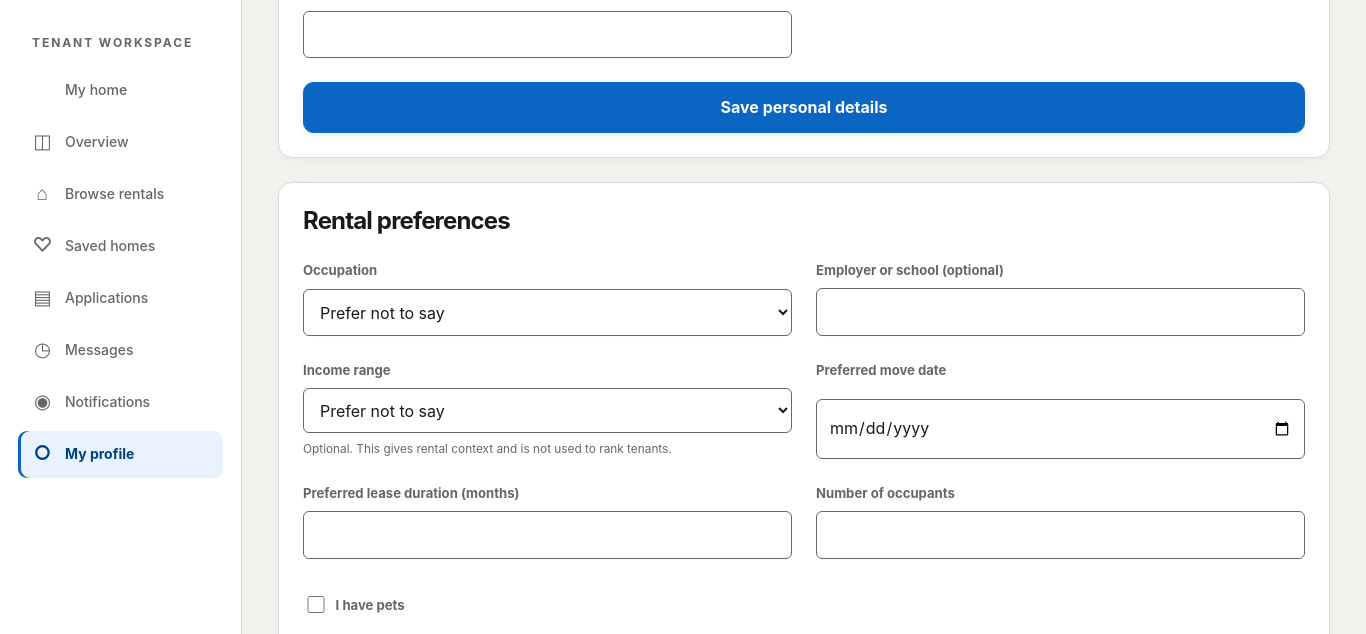
tenant profile page › renders accessible sections and sends bearer-authenticated updates
This screenshot has width=1366, height=634.
(page scrolled)
Expected: the heading "Rental preferences" is shown, [303,206,510,235]
Step 1. Select "Student" in the dropdown labelled "Occupation" → {"x": 548, "y": 313}, box [303,289,792,336]
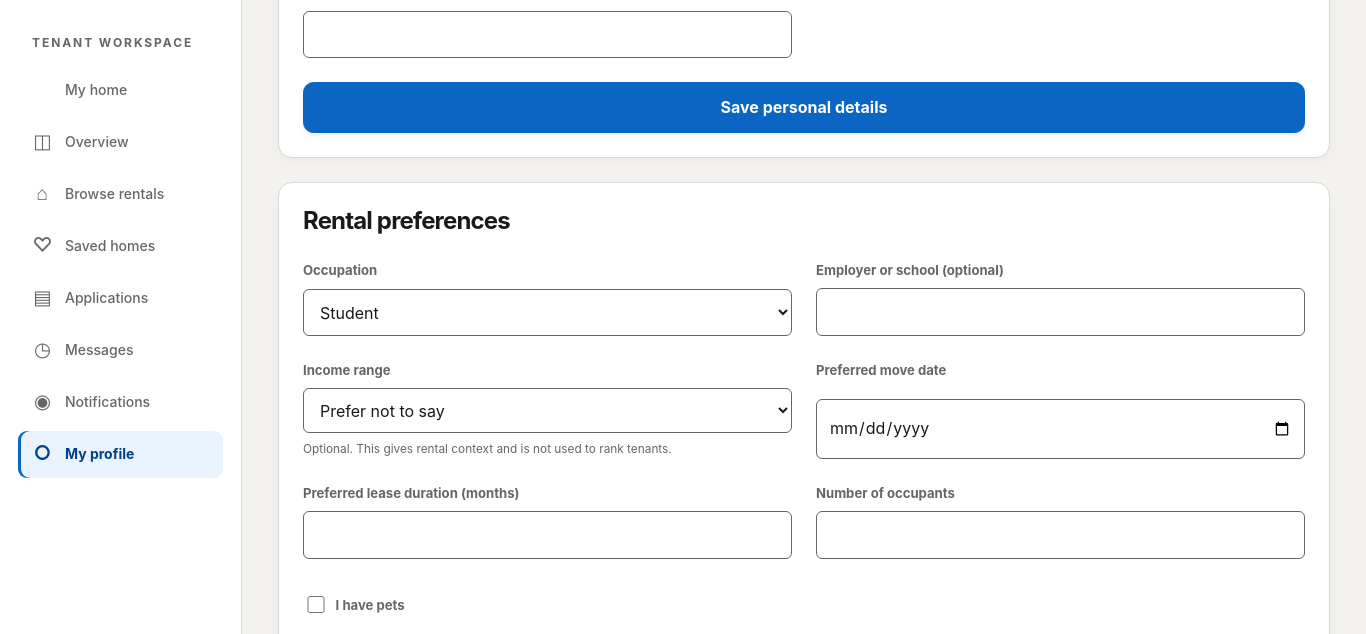
Step 2. Type "2" into the number field labelled "Number of occupants" → {"x": 1060, "y": 535}, box [816,511,1305,559]
(page scrolled)
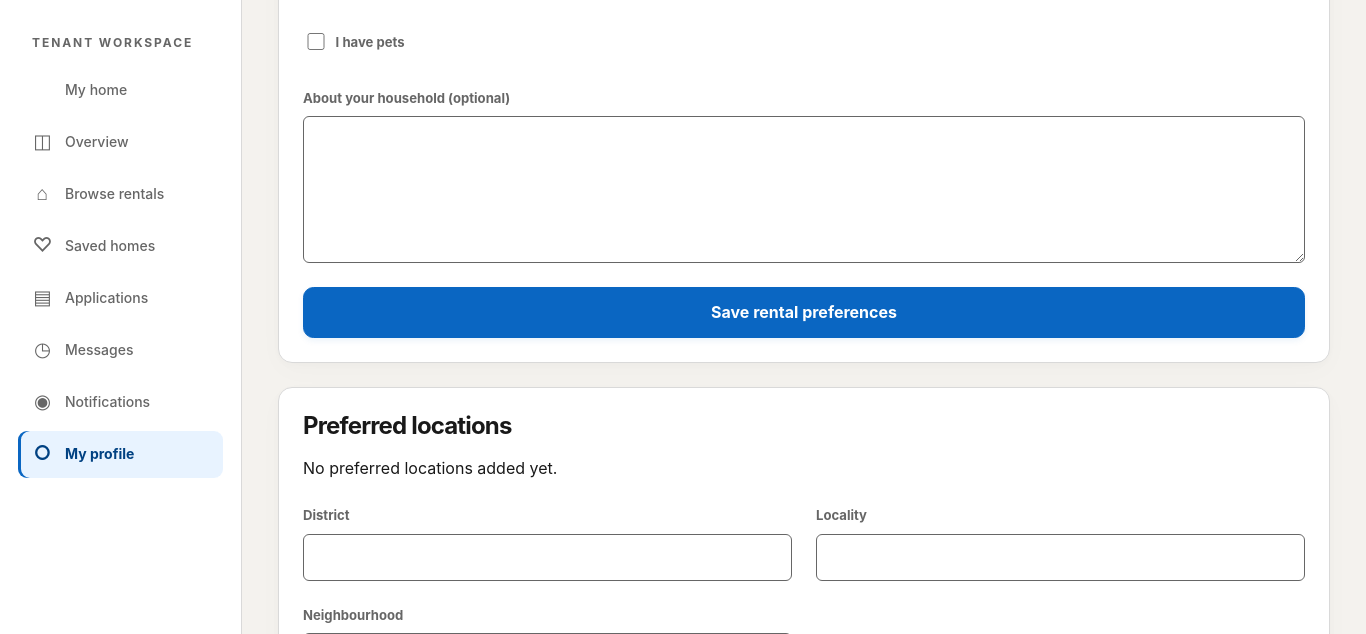
Step 3. Click the button "Save rental preferences" → {"x": 804, "y": 312}, box [303,287,1305,338]
(page scrolled)
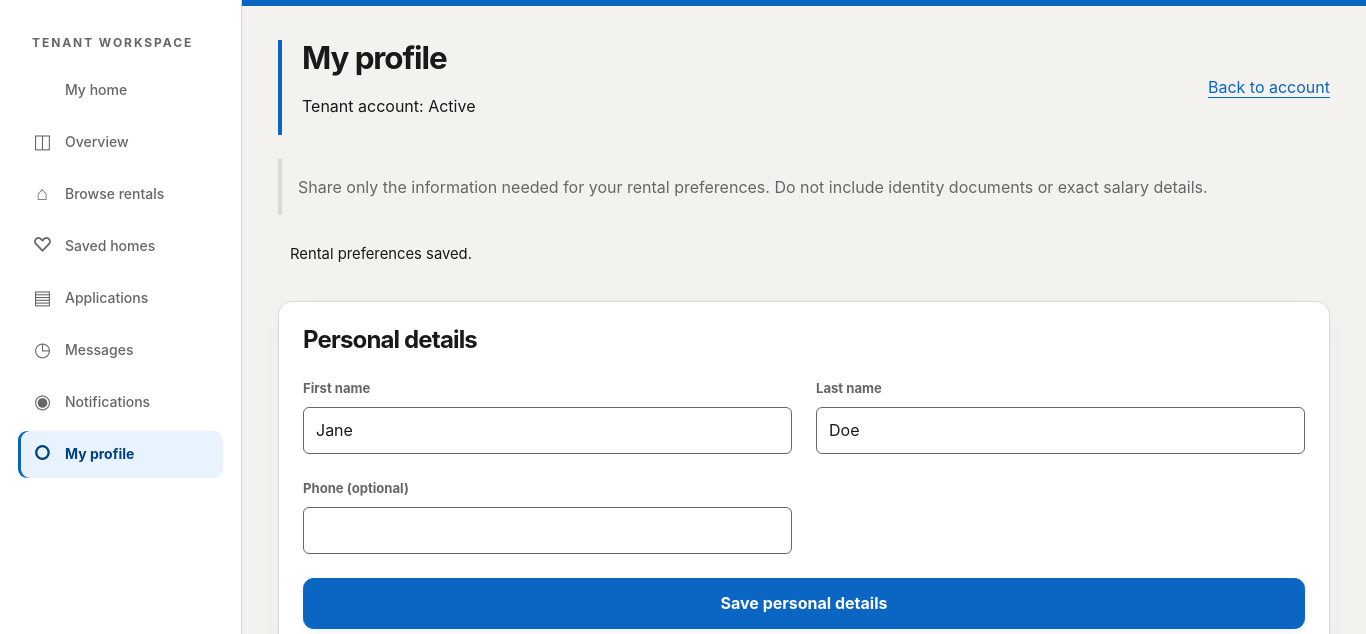
Expected: the text "Rental preferences saved." is shown, [278,230,1330,277]
